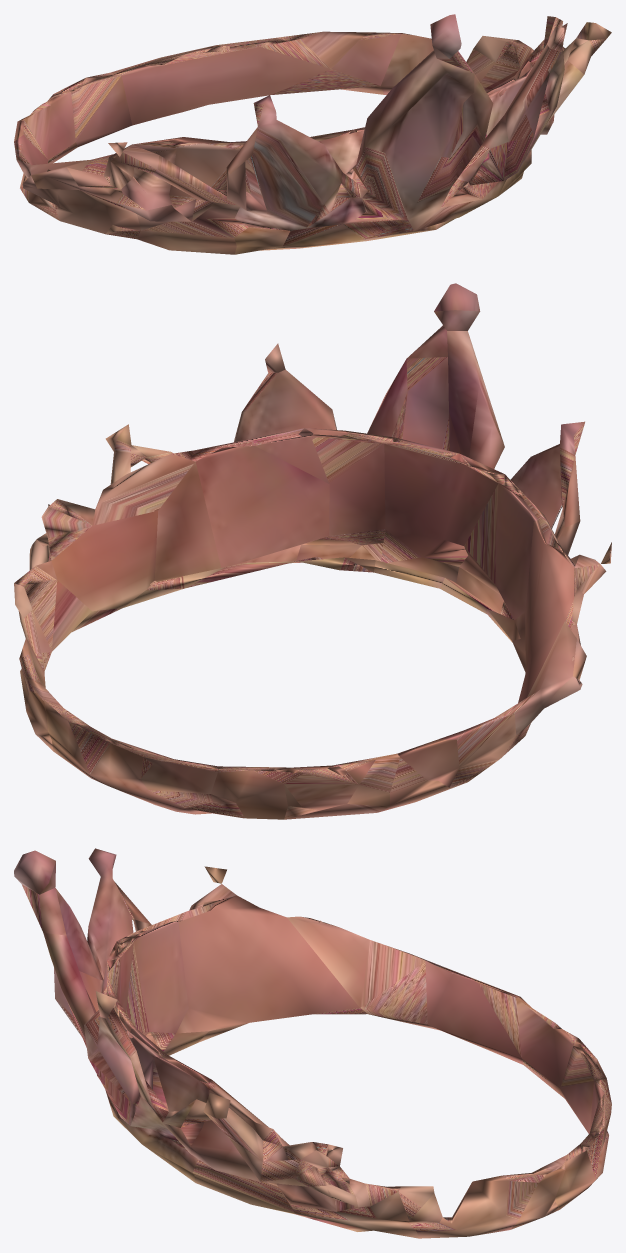
3 views of the same model, one above another, from view 1: azimuth 30°, elevation 25°; view 2: azimuth 150°, elevation 25°; view 3: azimuth 270°, elevation 25° (orthographic). The views are drawn at different scales.
Parts seen in each view (by area): view 1: Pink-Tiara-23; view 2: Pink-Tiara-23; view 3: Pink-Tiara-23.
Boxes of the visible parts, x1,y1,x2,y2 form: Pink-Tiara-23: (14,14,611,254); Pink-Tiara-23: (14,283,611,819); Pink-Tiara-23: (14,848,611,1238).
Size of the model in its own units: 0.281 by 0.1518 by 0.2693.
Materials: 1 (1 with a texture image).
